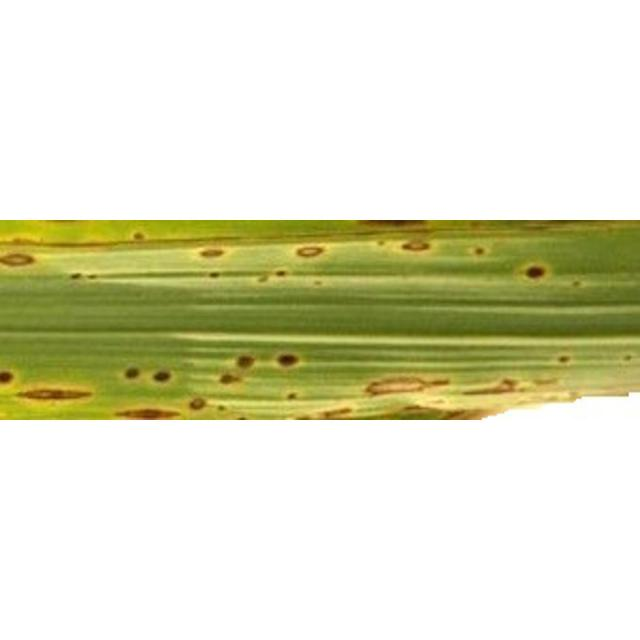Brown spot: (348, 374, 462, 399), (11, 382, 100, 407), (194, 229, 238, 266), (0, 233, 39, 272), (53, 263, 105, 288), (110, 404, 182, 422), (481, 372, 524, 402), (398, 233, 436, 260), (116, 357, 148, 387), (522, 262, 556, 288), (294, 243, 338, 262), (270, 350, 304, 373), (151, 362, 179, 388), (214, 369, 246, 391), (186, 388, 213, 414), (232, 351, 259, 374), (122, 224, 153, 244), (618, 339, 638, 369), (284, 386, 308, 408), (556, 350, 576, 376), (466, 239, 489, 260), (0, 363, 16, 387), (370, 224, 384, 251), (570, 277, 584, 293)
